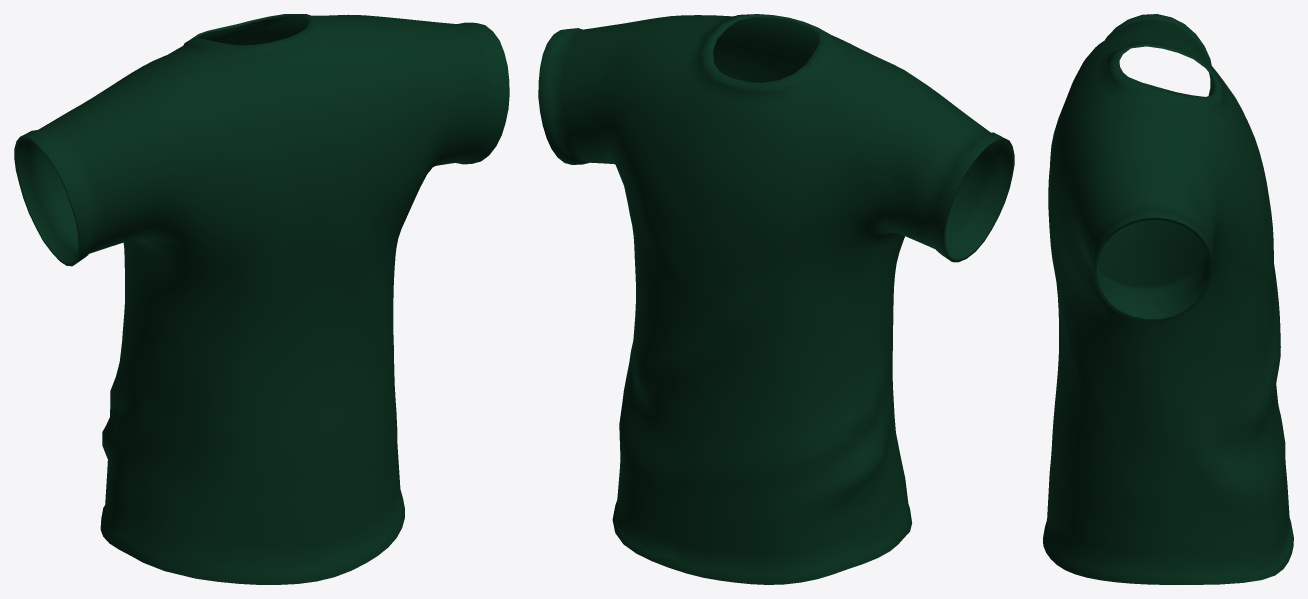
The model's file is Tshirt.fbx.
The picture shows the model from 3 angles, left to right: view 1: azimuth 30°, elevation 25°; view 2: azimuth 150°, elevation 25°; view 3: azimuth 270°, elevation 25°; orthographic projection. The views are drawn at different scales.
Visible parts, largest first — view 1: Tshirt; view 2: Tshirt; view 3: Tshirt.
Part boxes in pixels (x1,y1,x2,y2): Tshirt: (14, 14, 509, 584); Tshirt: (538, 14, 1014, 584); Tshirt: (1043, 14, 1293, 584).
Bounding box in the file's own units: 105 × 113 × 53.86.
